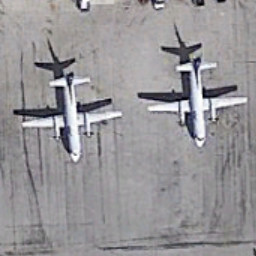Airplane: (14, 64, 130, 169), (146, 57, 252, 166)
